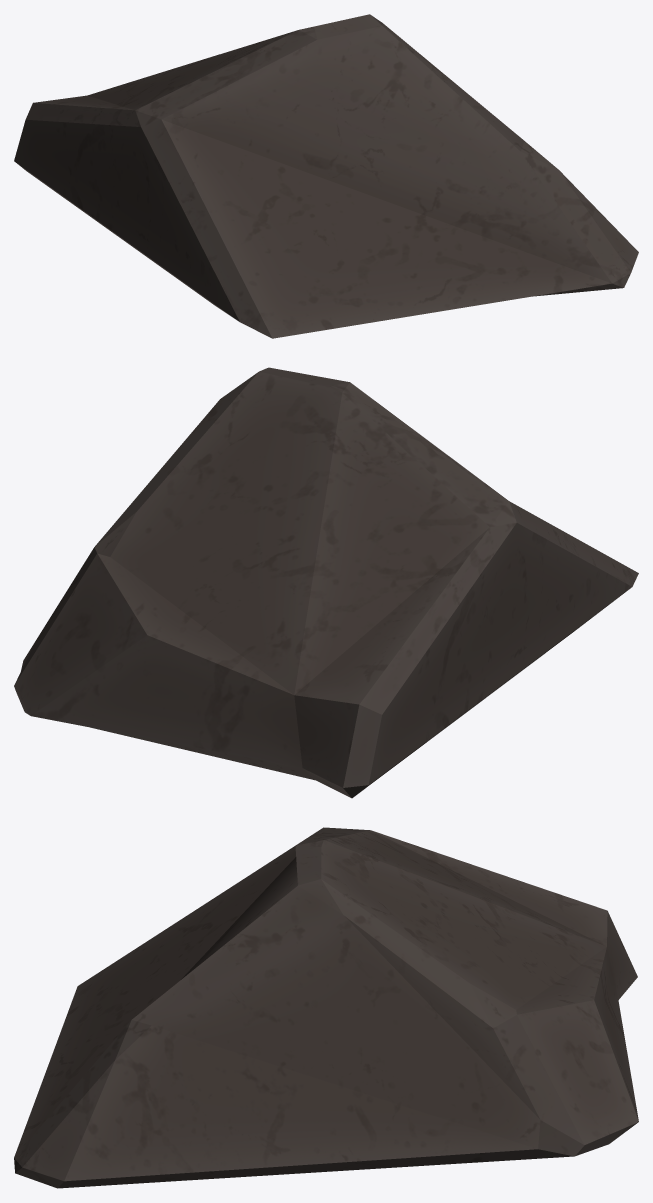
The model's file is rock2.fbx.
3 renders of one model, top to bottom at view 1: azimuth 30°, elevation 25°; view 2: azimuth 150°, elevation 25°; view 3: azimuth 270°, elevation 25°, orthographic. The views are drawn at different scales.
Parts seen in each view (by area): view 1: 2; view 2: 2; view 3: 2.
Boxes of the visible parts, x1,y1,x2,y2 form: 2: [14, 14, 638, 338]; 2: [14, 367, 638, 798]; 2: [14, 827, 638, 1188].
Bounding box in the file's own units: 77.47 × 40.03 × 98.34.
1 material, 1 textured.
